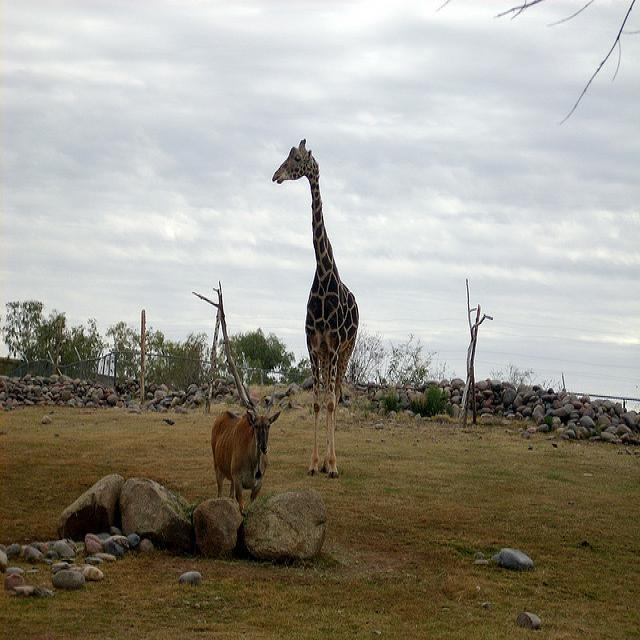cow: (211, 407, 278, 505)
